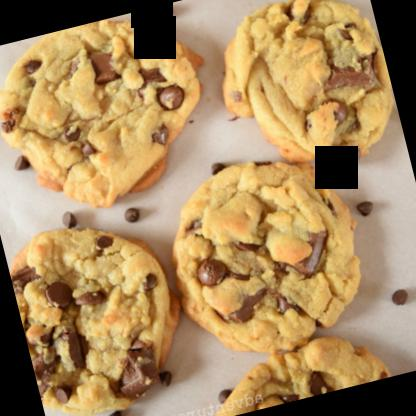cookie: (0, 0, 227, 228), (155, 142, 377, 367), (2, 204, 194, 415), (211, 0, 407, 185)
